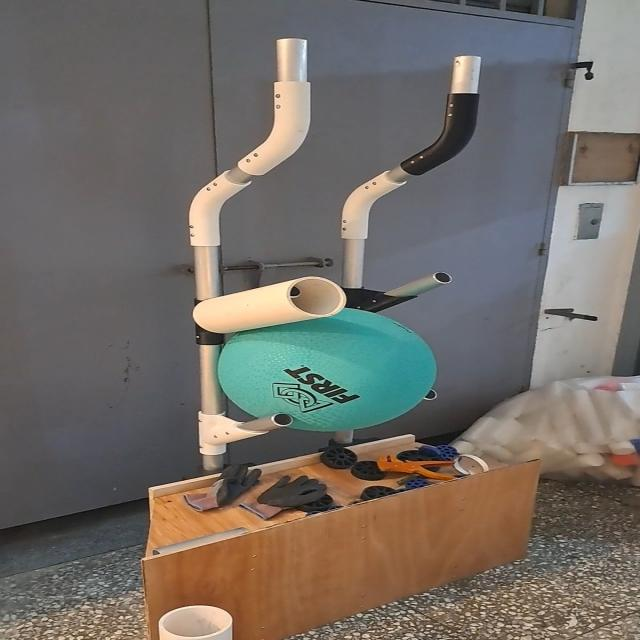ALGAE: (215, 304, 441, 431)
CORAL: (189, 275, 349, 336), (154, 604, 239, 640)
